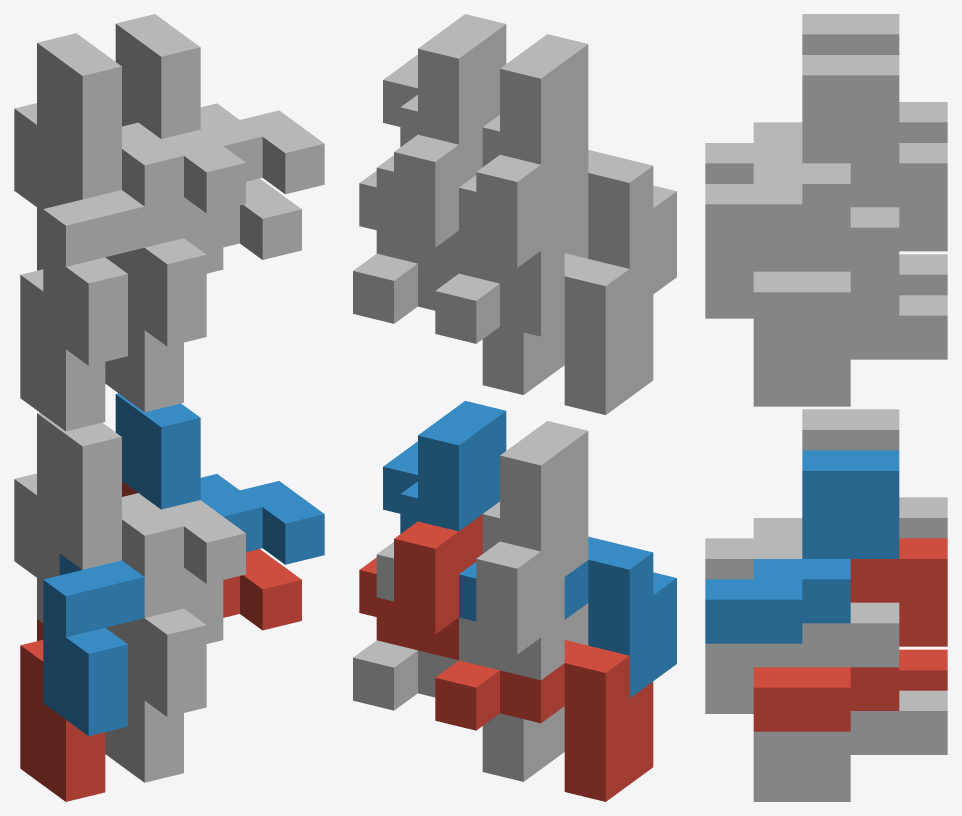
File: tiling.obj
The picture shows the model from 3 angles, left to right: view 1: azimuth 30°, elevation 25°; view 2: azimuth 150°, elevation 25°; view 3: azimuth 270°, elevation 25°; orthographic projection. The views are drawn at different scales.
Visible parts, largest first — view 1: copy_2_domain_4, copy_2_domain_2, copy_2_domain_8, copy_2_domain_6, copy_1_domain_2, copy_1_domain_4, copy_1_domain_6, copy_1_domain_8, copy_1_domain_1, copy_1_domain_3, copy_2_domain_1, copy_2_domain_3 (+4 smaller); view 2: copy_1_domain_3, copy_1_domain_1, copy_1_domain_4, copy_1_domain_2, copy_2_domain_1, copy_2_domain_3, copy_2_domain_6, copy_2_domain_8, copy_2_domain_4, copy_2_domain_2, copy_2_domain_5, copy_2_domain_7 (+4 smaller); view 3: copy_2_domain_6, copy_2_domain_8, copy_2_domain_7, copy_2_domain_5, copy_1_domain_7, copy_1_domain_5, copy_1_domain_6, copy_1_domain_8, copy_2_domain_2, copy_2_domain_4, copy_2_domain_1, copy_2_domain_3 (+2 smaller).
Boxes of the visible parts, x1,y1,x2,y2 form: copy_2_domain_4: (37,33,245,213); copy_2_domain_2: (37,412,245,583); copy_2_domain_8: (115,14,324,194); copy_2_domain_6: (115,393,324,564); copy_1_domain_2: (43,553,144,736); copy_1_domain_4: (43,183,144,365); copy_1_domain_6: (122,567,223,716); copy_1_domain_8: (122,197,223,346); copy_1_domain_1: (20,619,105,801); copy_1_domain_3: (20,249,105,431); copy_2_domain_1: (14,473,223,643); copy_2_domain_3: (14,103,223,273); copy_1_domain_3: (435,253,653,414); copy_1_domain_1: (435,640,653,801); copy_1_domain_4: (459,150,676,311); copy_1_domain_2: (459,536,676,697); copy_2_domain_1: (459,534,564,680); copy_2_domain_3: (459,147,564,293); copy_2_domain_6: (383,401,506,533); copy_2_domain_8: (383,14,506,146); copy_2_domain_4: (482,34,588,189); copy_2_domain_2: (482,421,588,576); copy_2_domain_5: (359,514,482,660); copy_2_domain_7: (359,127,482,273); copy_2_domain_6: (705,450,899,643); copy_2_domain_8: (705,55,899,248); copy_2_domain_7: (753,143,947,335); copy_2_domain_5: (753,538,947,731); copy_1_domain_7: (753,295,947,406); copy_1_domain_5: (753,690,947,801); copy_1_domain_6: (705,602,899,713); copy_1_domain_8: (705,207,899,318); copy_2_domain_2: (705,409,899,579); copy_2_domain_4: (705,14,899,183); copy_2_domain_1: (753,497,947,667); copy_2_domain_3: (753,102,947,271).
Bounding box in the file's own units: 6 × 17 × 5.
